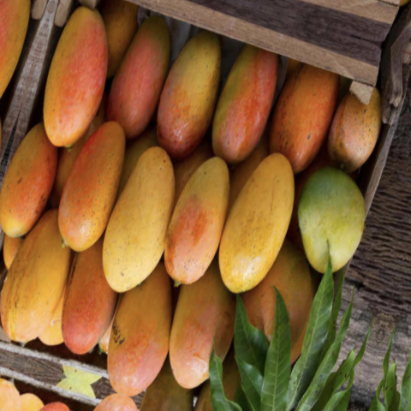mango: (81, 125, 201, 311), (201, 138, 313, 313), (21, 0, 131, 170), (192, 15, 295, 188), (0, 180, 98, 353), (34, 109, 141, 264), (92, 252, 200, 404), (149, 155, 248, 304), (284, 151, 389, 284), (94, 16, 187, 159), (0, 104, 77, 248)
